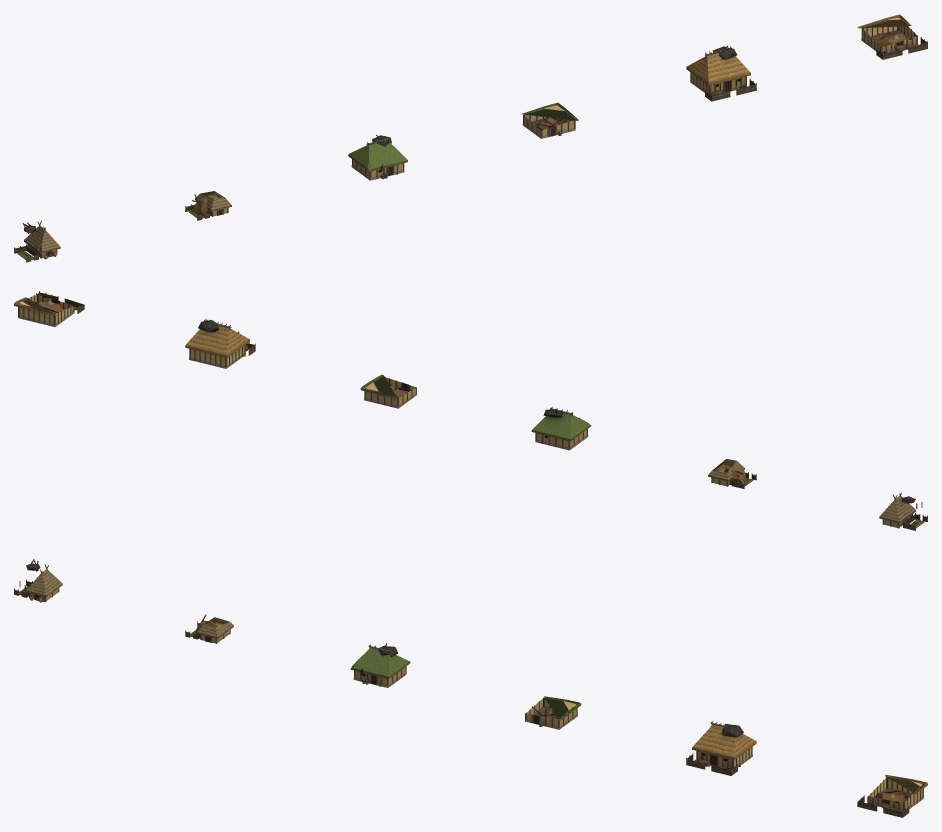
Rendered from bronze-europe-houses-damage.glb.
The picture shows the model from 3 angles, top to bottom: view 1: azimuth 30°, elevation 25°; view 2: azimuth 150°, elevation 25°; view 3: azimuth 330°, elevation 25°; orthographic projection.
Parts seen in each view (by area): view 1: LOD0.004, LOD0.005, LOD0.002, LOD0.003, LOD0, LOD0.001; view 2: LOD0.004, LOD0.002, LOD0.005, LOD0.003, LOD0, LOD0.001; view 3: LOD0.004, LOD0.005, LOD0.002, LOD0.003, LOD0, LOD0.001.
Boxes of the visible parts, box(x1,y1,x2,y2) form: LOD0.004: box(686, 45, 756, 101); LOD0.005: box(857, 14, 927, 59); LOD0.002: box(348, 134, 407, 180); LOD0.003: box(521, 102, 578, 138); LOD0: box(14, 220, 60, 262); LOD0.001: box(185, 191, 231, 220); LOD0.004: box(185, 319, 255, 368); LOD0.002: box(531, 406, 591, 450); LOD0.005: box(14, 291, 84, 326); LOD0.003: box(360, 374, 416, 408); LOD0: box(879, 493, 927, 530); LOD0.001: box(708, 459, 756, 488); LOD0.004: box(686, 721, 756, 775); LOD0.005: box(857, 775, 927, 817); LOD0.002: box(350, 643, 410, 687); LOD0.003: box(525, 696, 581, 729); LOD0: box(14, 559, 62, 602); LOD0.001: box(185, 614, 233, 643).
Size of what is drawn, in the model's own units: 15.69 by 0.6104 by 0.8165.
1 material, 1 textured.
